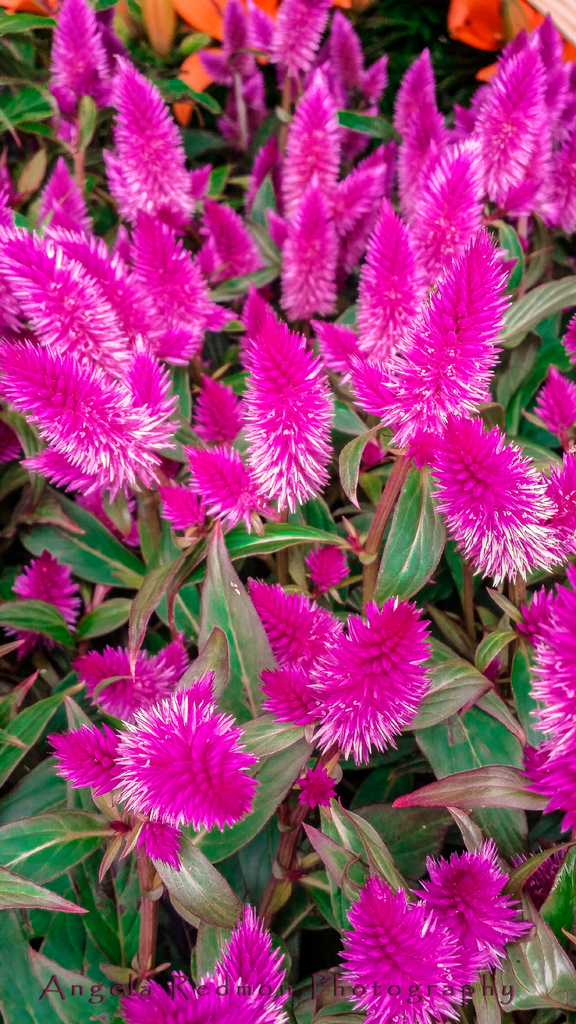person: (267, 0, 390, 232)
